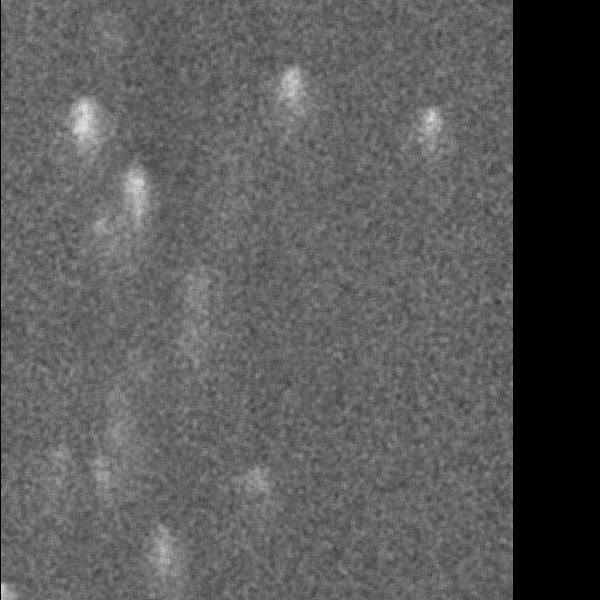spark: (62, 89, 104, 190), (279, 59, 303, 165), (183, 272, 204, 390), (146, 520, 176, 600), (416, 103, 447, 168), (244, 466, 278, 510), (176, 279, 205, 309), (47, 442, 70, 465)
